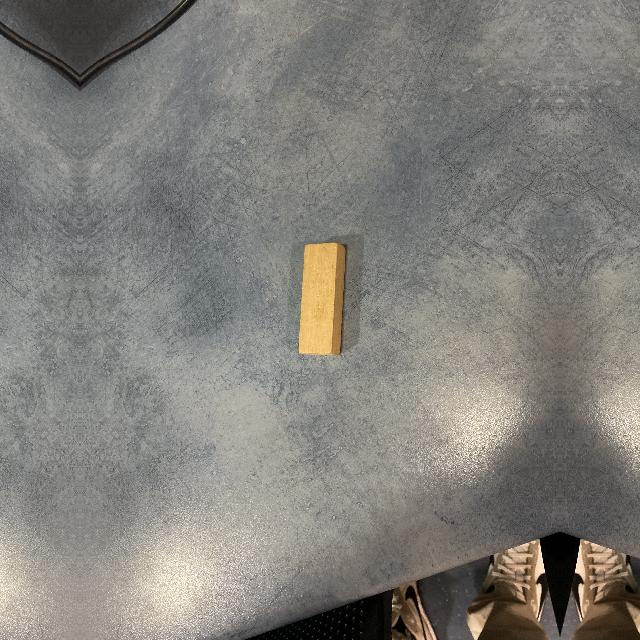jenga: (298, 242, 347, 358)
